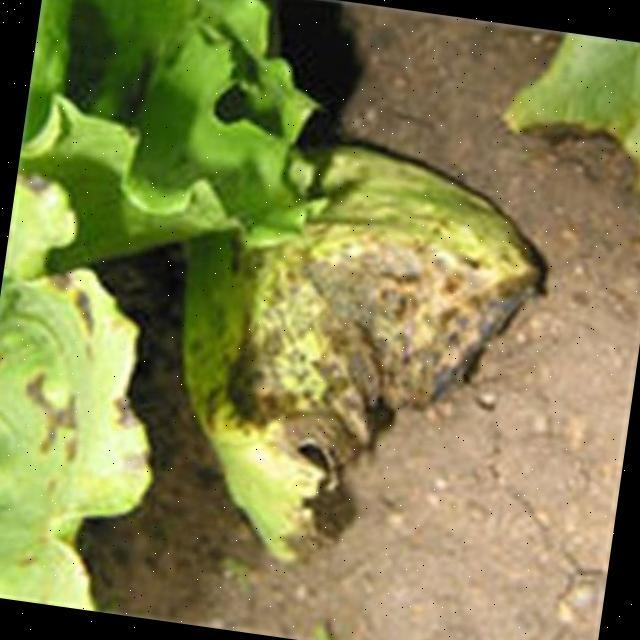Healthy: (220, 198, 456, 394)
